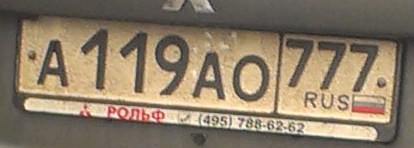character: (156, 35, 189, 97), (34, 37, 71, 89), (81, 27, 109, 92), (120, 30, 148, 94), (233, 55, 271, 102), (349, 41, 378, 95), (286, 38, 314, 92), (194, 52, 225, 100), (319, 39, 347, 92)
